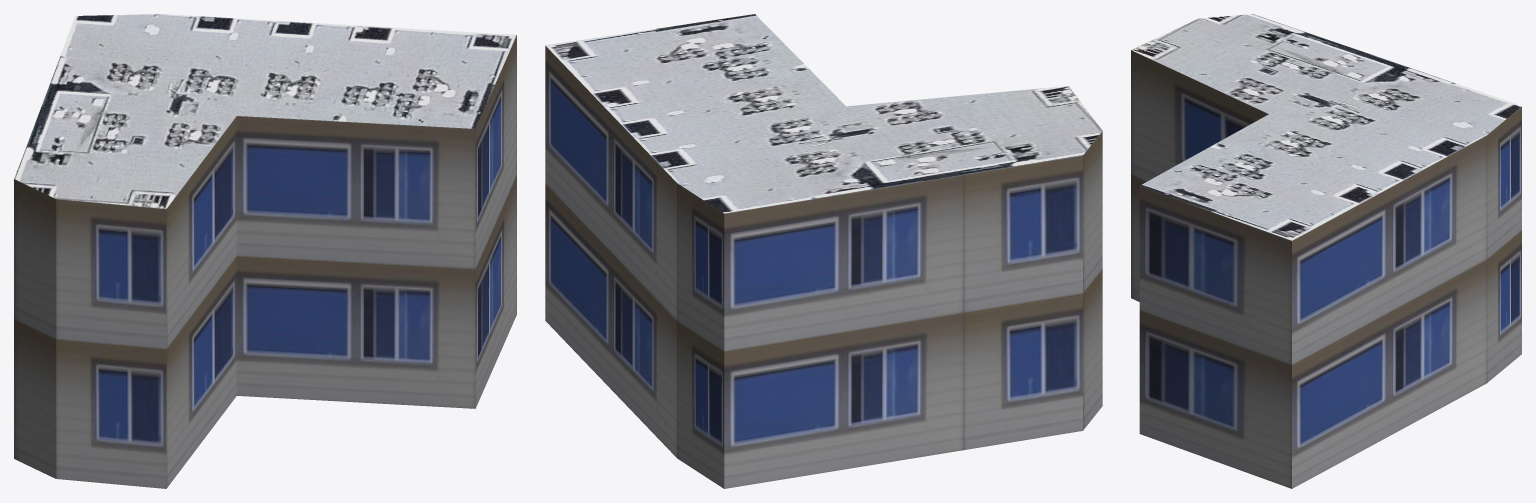
File: ResTex__2693.fbx
3 renders of one model, left to right at view 1: azimuth 30°, elevation 25°; view 2: azimuth 150°, elevation 25°; view 3: azimuth 270°, elevation 25°, orthographic. The views are drawn at different scales.
Visible parts, largest first — view 1: CityEngineMaterial_23_m, CityEngineMaterial_8_m; view 2: CityEngineMaterial_23_m, CityEngineMaterial_8_m; view 3: CityEngineMaterial_23_m, CityEngineMaterial_8_m.
Part boxes in pixels (left/top/right/bottom): CityEngineMaterial_23_m: left=14, top=35, right=516, bottom=488; CityEngineMaterial_8_m: left=14, top=14, right=516, bottom=208; CityEngineMaterial_23_m: left=545, top=46, right=1102, bottom=488; CityEngineMaterial_8_m: left=545, top=14, right=1102, bottom=213; CityEngineMaterial_23_m: left=1131, top=50, right=1521, bottom=488; CityEngineMaterial_8_m: left=1131, top=14, right=1521, bottom=240.
Size of the model in its own units: 11.77 by 6 by 8.57.
Materials: 2 (2 with a texture image).
